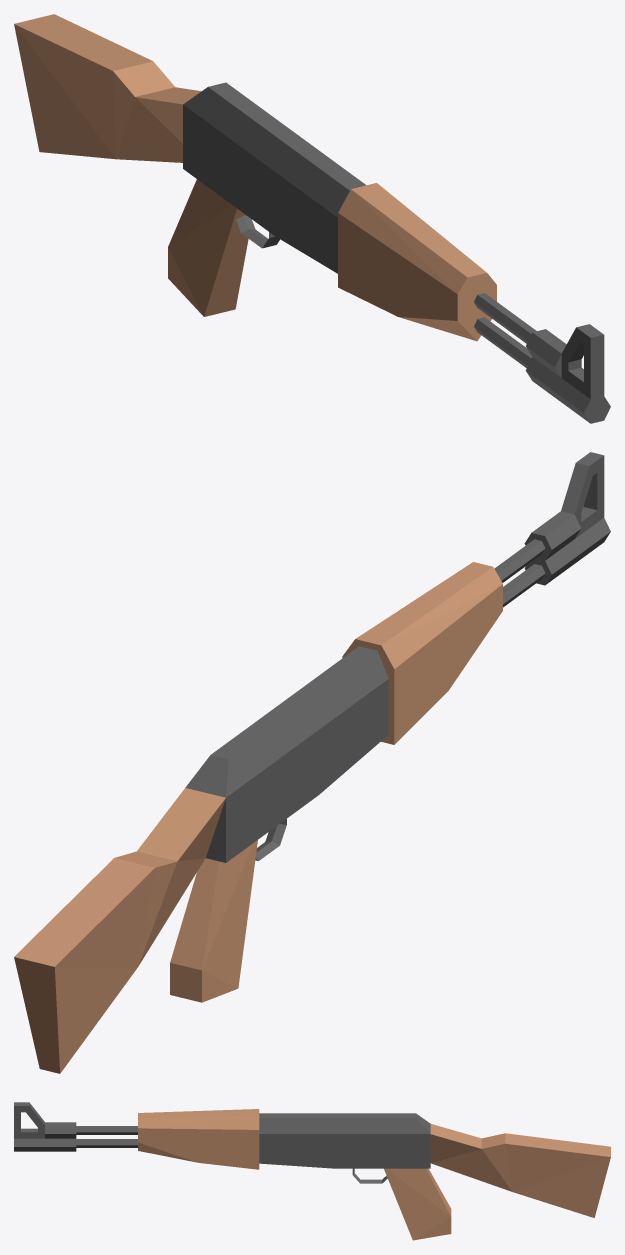
Rendered from GunAK.glb.
The picture shows the model from 3 angles, top to bottom: view 1: azimuth 30°, elevation 25°; view 2: azimuth 150°, elevation 25°; view 3: azimuth 270°, elevation 25°; orthographic projection. The views are drawn at different scales.
Parts seen in each view (by area): view 1: AK_Body; view 2: AK_Body; view 3: AK_Body.
Part boxes in pixels (<box>): AK_Body: <box>14,14,610,423</box>; AK_Body: <box>14,452,610,1073</box>; AK_Body: <box>14,1102,610,1240</box>.
Bounding box in the file's own units: 0.0354 × 0.1639 × 0.6656.
